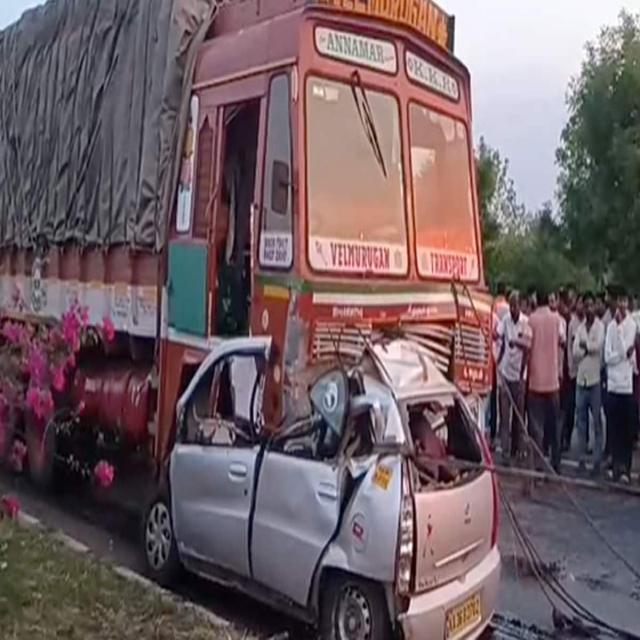accident: (145, 337, 500, 638)
truck: (0, 0, 492, 509)
